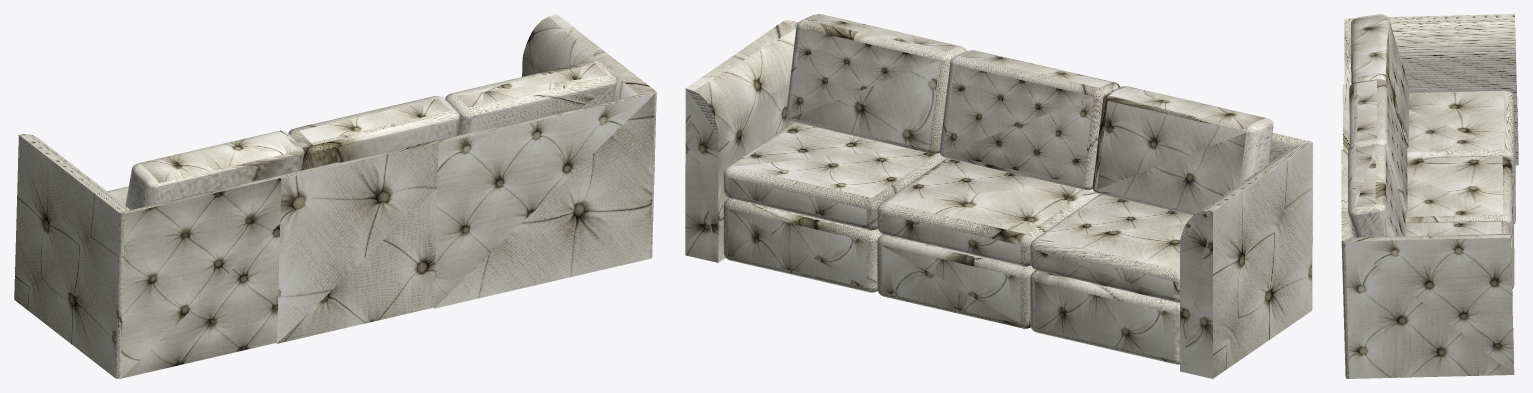
File: sofa2again.glb
3 renders of one model, left to right at view 1: azimuth 30°, elevation 25°; view 2: azimuth 150°, elevation 25°; view 3: azimuth 270°, elevation 25°, orthographic. The views are drawn at different scales.
Visible parts, largest first — view 1: sofa1; view 2: sofa1; view 3: sofa1.
Part boxes in pixels (x1,y1,x2,y2): sofa1: (14, 14, 656, 378); sofa1: (685, 14, 1312, 378); sofa1: (1341, 14, 1518, 378).
Size of the model in its own units: 2.46 by 0.8663 by 0.848.
Materials: 1 (1 with a texture image).
